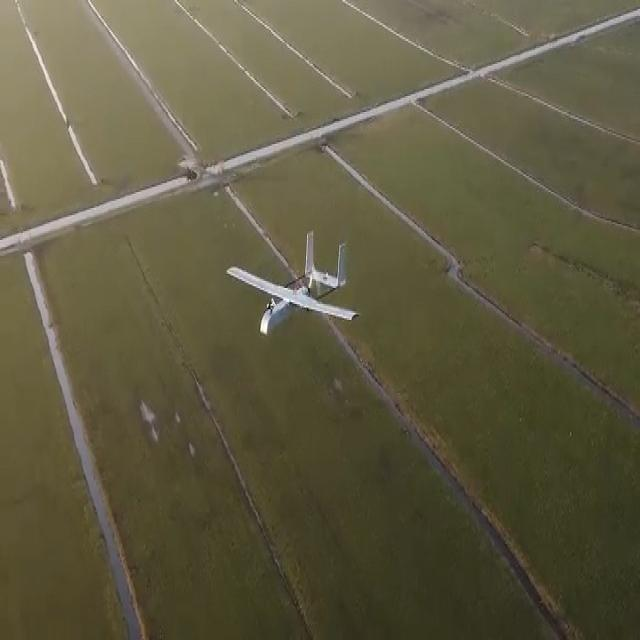iha: (227, 263, 358, 314)
